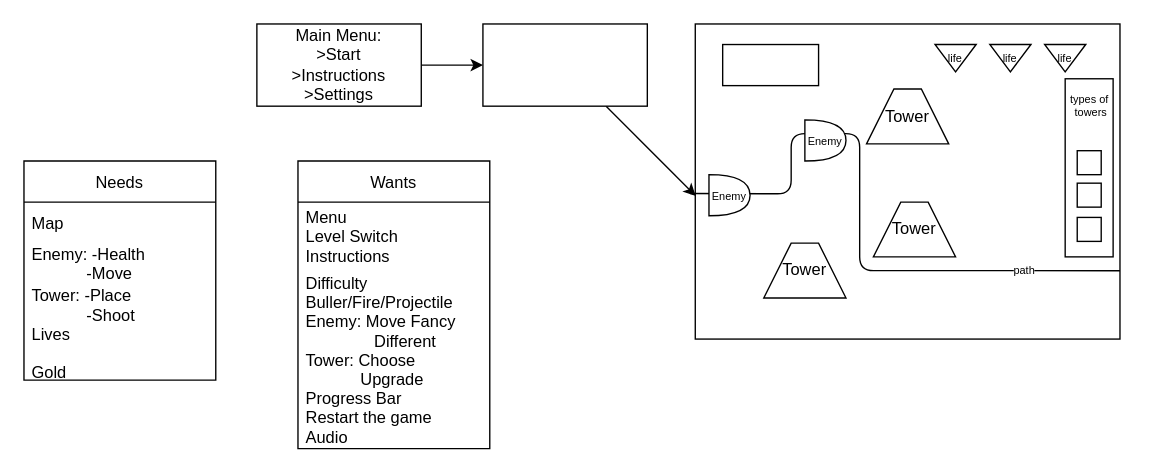
Some shapes in this 1154 by 473 pixel diagram are drawn without their labels. The centre of each missing label's shape, as x and y in pixels:
"-Gold -Life --if possible progress bar" goes at [564,64].
"Gold" goes at [770,64].
